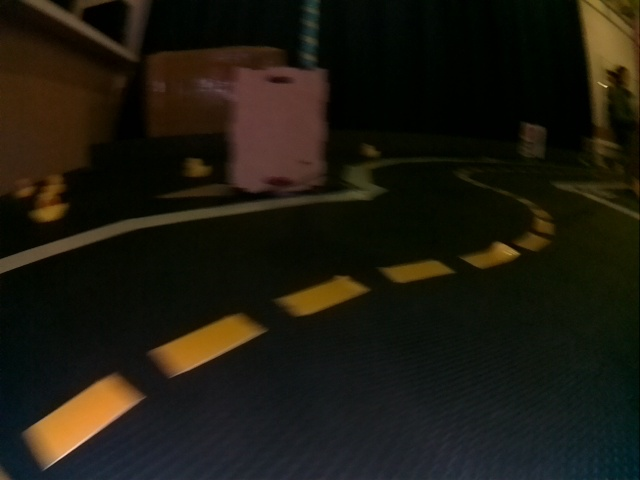Duckie: (33, 194, 68, 221), (184, 158, 210, 177), (46, 173, 66, 194), (14, 178, 34, 196), (362, 144, 379, 157)
